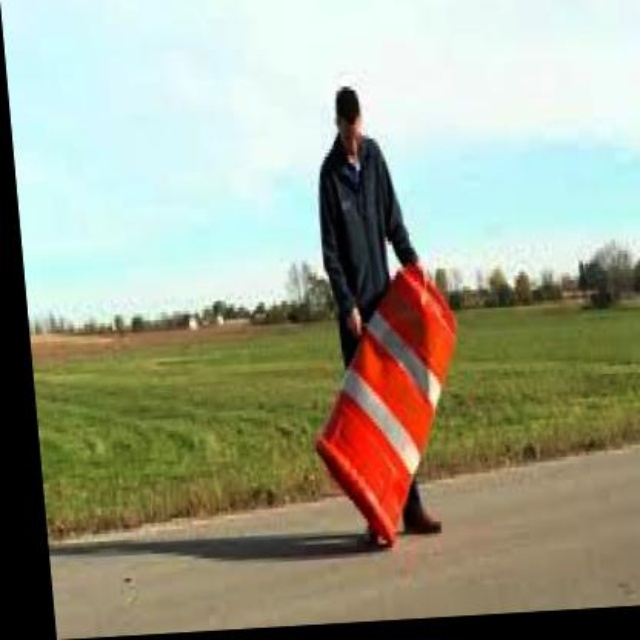obstacle: (288, 266, 475, 582)
